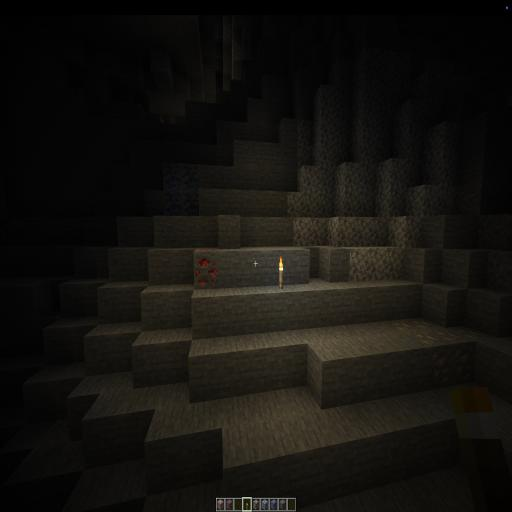iron ore: (394, 313, 476, 388)
redstone ore: (191, 245, 221, 291)
